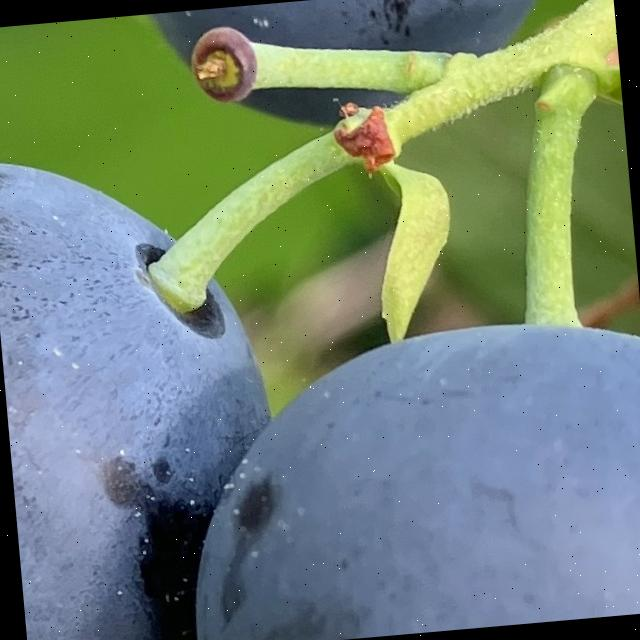Blueberries: (166, 305, 640, 640), (0, 128, 290, 640)
